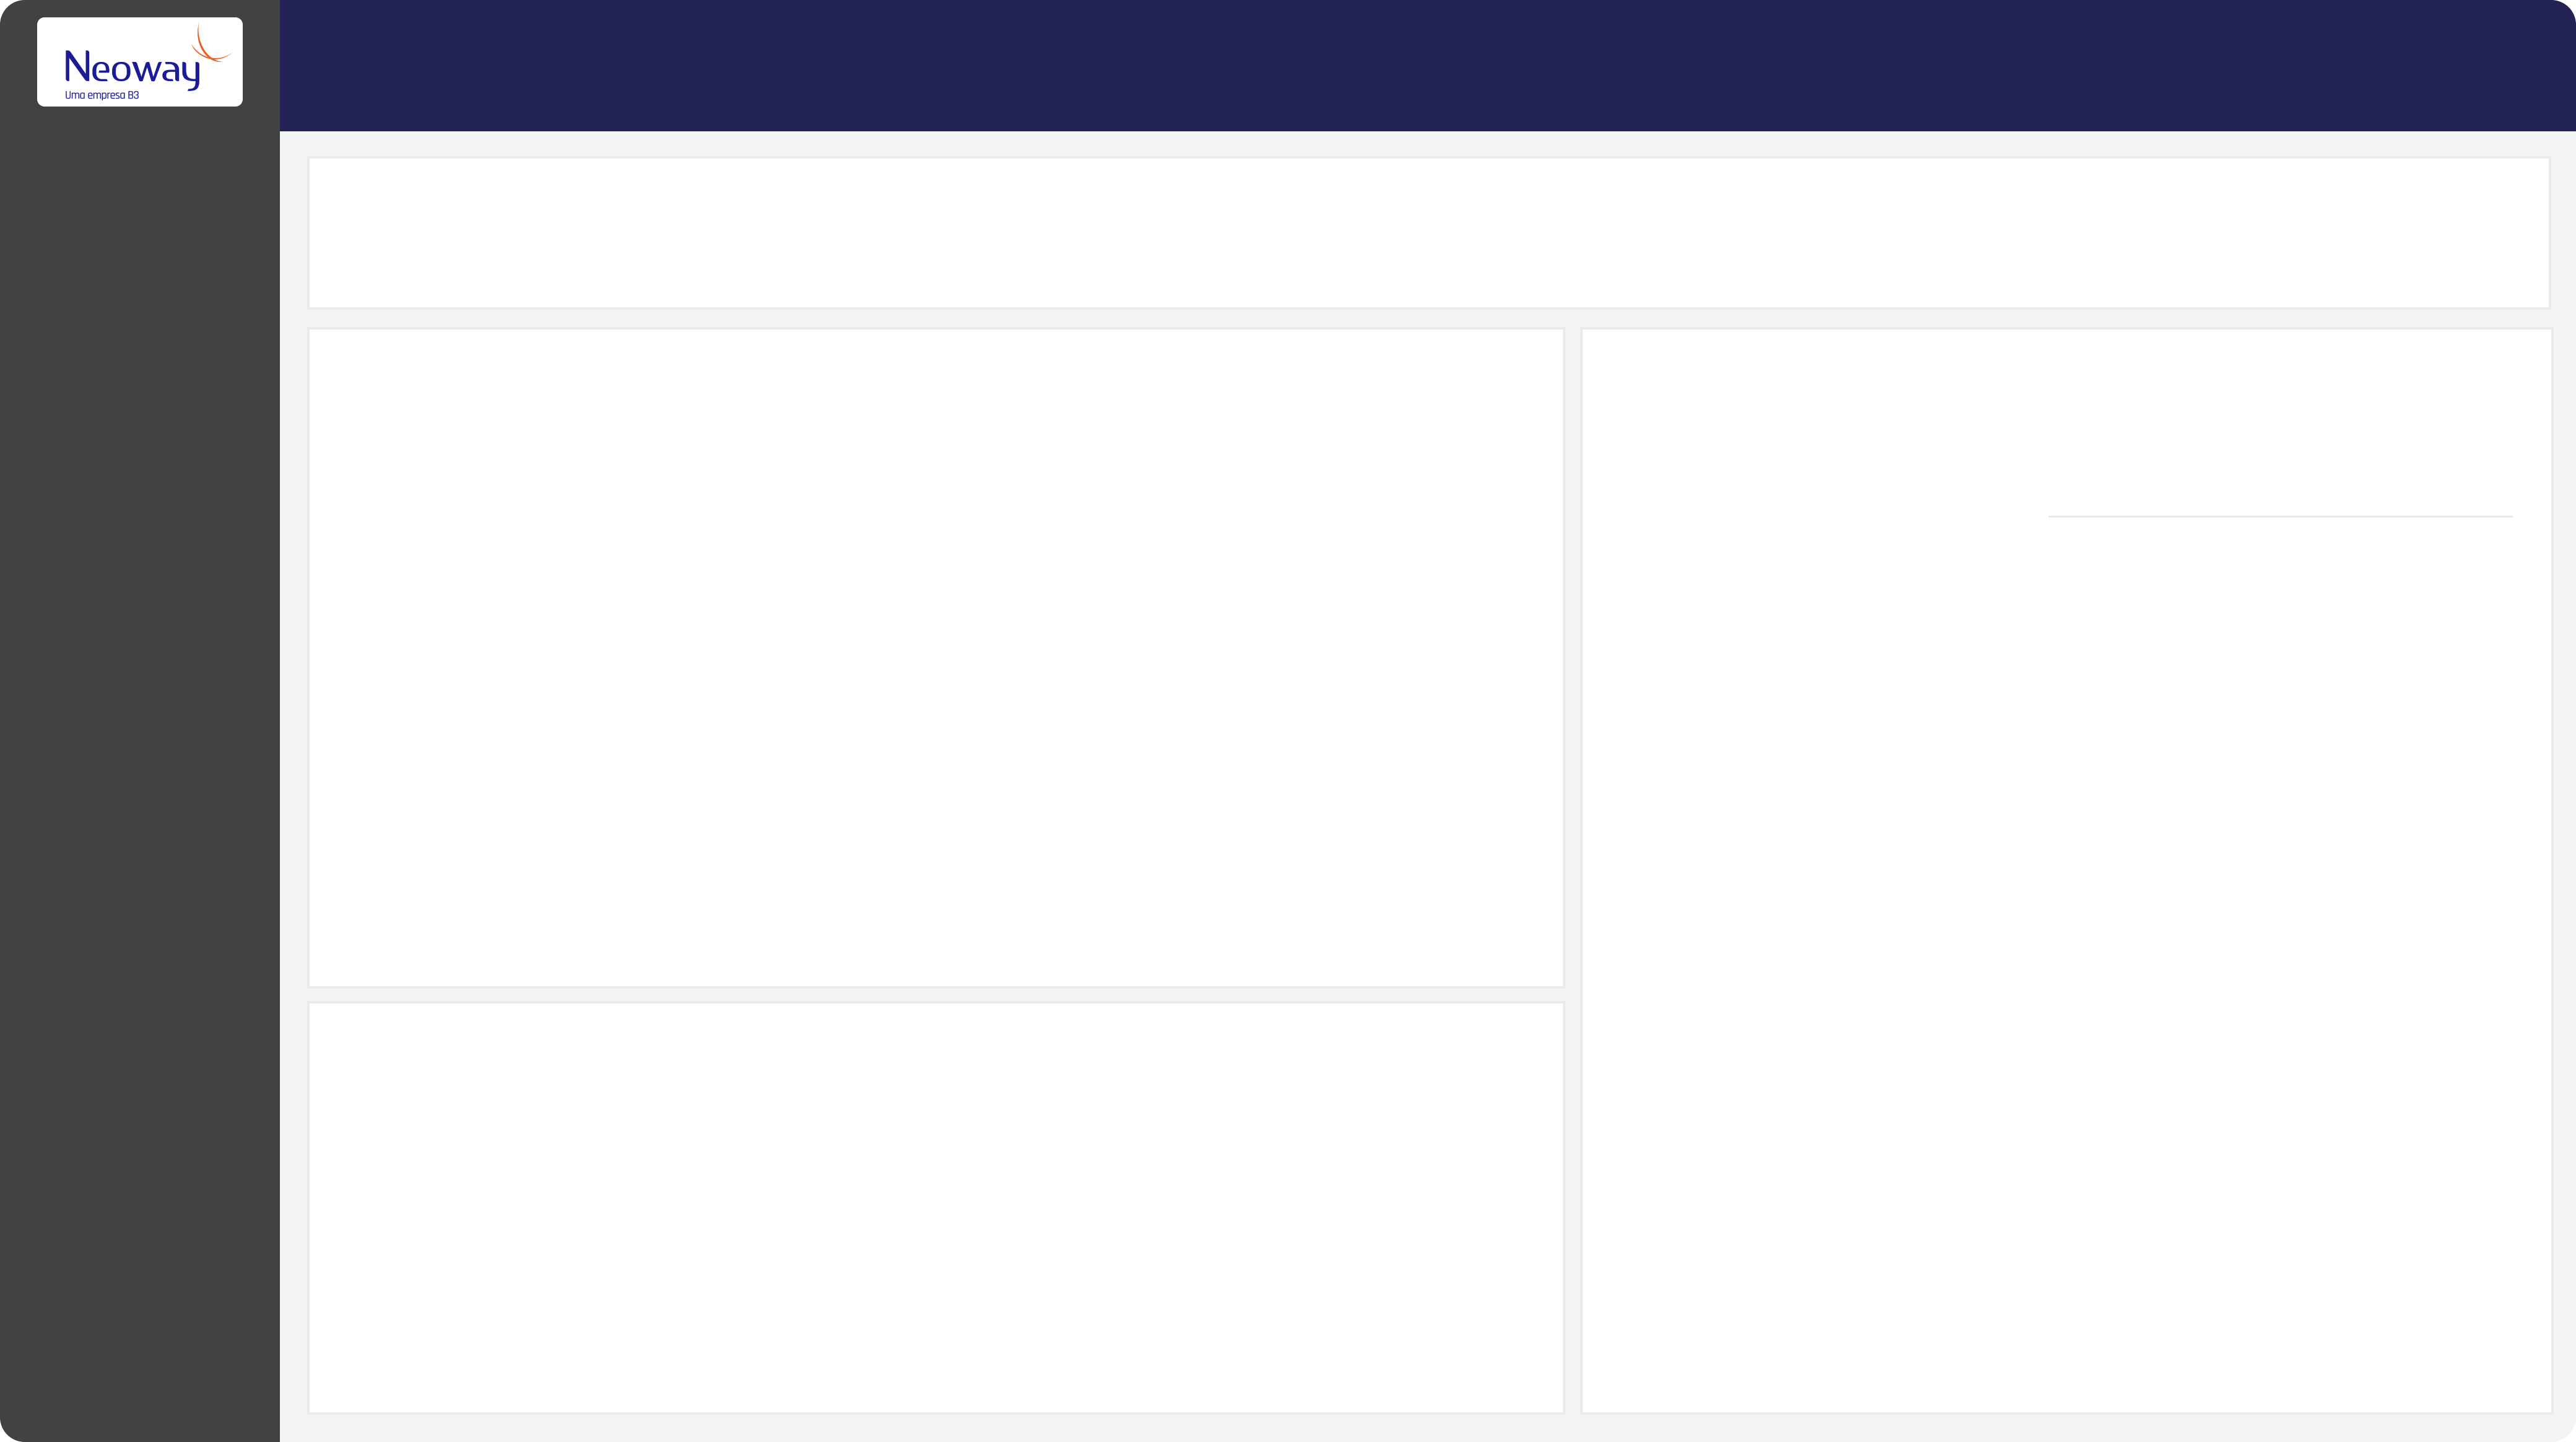

Layout of this report page (visuals, bound fields, positions):
{"tool":"powerbi","page":{"name":"Potencial","canvas":[1920,1080],"ordinal":1},"visuals":[{"type":"textbox","box":[231.8,10,784.3,53.9],"z":0},{"type":"pivotTable","fields":{"Rows":["d_empresas.empresa_bolsa_setor_economico"],"Values":["d_medidas.mom_valor_acao_fechamento"],"Columns":["o_ordem_ano_mes.AnoMês"]},"box":[254.3,334.5,898.3,372.1],"z":1000},{"type":"slicer","fields":{"Values":["d_calendario.Ano","o_ordem_mes.Mês"]},"box":[250.6,139.3,200.5,76.4],"z":2000},{"type":"slicer","fields":{"Values":["p_detalhamento_dispersão.p_detalhamento_dispersão"]},"box":[899.6,265.6,256.8,55.1],"z":4000},{"type":"slicer","fields":{"Values":["p_detalhamento_dispersão.p_detalhamento_dispersão"]},"box":[1621.3,335.8,255.6,53.9],"z":5000},{"type":"textbox","box":[246.8,260.6,407.2,35.1],"z":6000},{"type":"advancedSlicerVisual","fields":{"Values":["ux_tipo_visualizacao.ux_tipo_visualizacao"]},"box":[1759.1,261.9,127.8,35.1],"z":7000},{"type":"lineChart","fields":{"Y":["d_medidas.valor_acao_fechamento"],"Category":["o_ordem_ano_mes.AnoMês"]},"box":[250.6,839.4,902.1,187.9],"z":8000},{"type":"textbox","box":[1265.4,322,105.2,30.1],"z":9000},{"type":"textbox","box":[234.3,52.6,784.3,37.6],"z":10000},{"type":"shape","box":[1755.3,259.4,67.7,37.6],"z":12000},{"type":"shape","box":[1824.2,261.9,61.4,35.1],"z":13000},{"type":"textbox","box":[246.8,283.2,468.6,35.1],"z":14000},{"type":"textbox","box":[1214,260.6,407.2,35.1],"z":15000},{"type":"textbox","box":[1214,283.1,468.6,35.1],"z":16000},{"type":"image","box":[1215.3,322,51.4,27.6],"z":18000},{"type":"scatterChart","title":"Valor da ação vs. crescimento LY","fields":{"Category":["d_empresas.empresa_bolsa_codigo_acao"],"X":["d_medidas.valor_acao_fechamento"],"Y":["d_medidas.mom_valor_acao_fechamento"]},"box":[1214.1,414.7,662.8,572.6],"z":19000},{"type":"textbox","box":[250.5,768,407.2,35.1],"z":20000},{"type":"textbox","box":[250.5,790.5,468.6,35.1],"z":21000},{"type":"pageNavigator","box":[1.3,157.9,208,192.9],"z":22000},{"type":"textbox","box":[1260.4,987.3,468.6,35.1],"z":23000},{"type":"textbox","box":[1663.9,918.4,194.2,35.1],"z":24000},{"type":"slicer","fields":{"Values":["d_empresas.empresa_bolsa_nome_empresa"]},"box":[444.4,138.9,227.6,77.2],"z":25000},{"type":"slicer","fields":{"Values":["d_empresas.empresa_regiao"]},"box":[1414.5,139.3,221.8,76.4],"z":26000},{"type":"slicer","fields":{"Values":["d_empresas.empresa_uf"]},"box":[1636.3,139.9,231.8,75.2],"z":27000},{"type":"slicer","fields":{"Values":["d_empresas.empresa_cnae"]},"box":[1106.3,139.9,308.2,75.2],"z":28000},{"type":"slicer","fields":{"Values":["f_cotacoes.cotacao_codigo_acao"]},"box":[666.5,138.9,189,77.2],"z":29000},{"type":"slicer","fields":{"Values":["d_empresas.empresa_ramo_atividade_descricao"]},"box":[853.2,139.9,258.1,75.2],"z":30000}]}

Visuals, with their boxes on the page's 1920x1080 design canvas (x1, y1, x2, y2). These are canvas units, not pixel positions in the 2576x1442 screenshot, which may show the page scaled, cropped or inside an application window:
textbox: (232,10,1016,64)
pivotTable - d_empresas.empresa_bolsa_setor_economico x d_medidas.mom_valor_acao_fechamento: (254,334,1153,707)
slicer - d_calendario.Ano x o_ordem_mes.Mês: (251,139,451,216)
slicer - p_detalhamento_dispersão.p_detalhamento_dispersão: (900,266,1156,321)
slicer - p_detalhamento_dispersão.p_detalhamento_dispersão: (1621,336,1877,390)
textbox: (247,261,654,296)
advancedSlicerVisual - ux_tipo_visualizacao.ux_tipo_visualizacao: (1759,262,1887,297)
lineChart - d_medidas.valor_acao_fechamento x o_ordem_ano_mes.AnoMês: (251,839,1153,1027)
textbox: (1265,322,1371,352)
textbox: (234,53,1019,90)
shape: (1755,259,1823,297)
shape: (1824,262,1886,297)
textbox: (247,283,715,318)
textbox: (1214,261,1621,296)
textbox: (1214,283,1683,318)
image: (1215,322,1267,350)
"Valor da ação vs. crescimento LY" scatterChart: (1214,415,1877,987)
textbox: (250,768,658,803)
textbox: (250,790,719,826)
pageNavigator: (1,158,209,351)
textbox: (1260,987,1729,1022)
textbox: (1664,918,1858,954)
slicer - d_empresas.empresa_bolsa_nome_empresa: (444,139,672,216)
slicer - d_empresas.empresa_regiao: (1414,139,1636,216)
slicer - d_empresas.empresa_uf: (1636,140,1868,215)
slicer - d_empresas.empresa_cnae: (1106,140,1414,215)
slicer - f_cotacoes.cotacao_codigo_acao: (666,139,856,216)
slicer - d_empresas.empresa_ramo_atividade_descricao: (853,140,1111,215)
